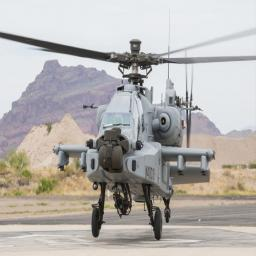helicopter: (2, 26, 256, 241)
